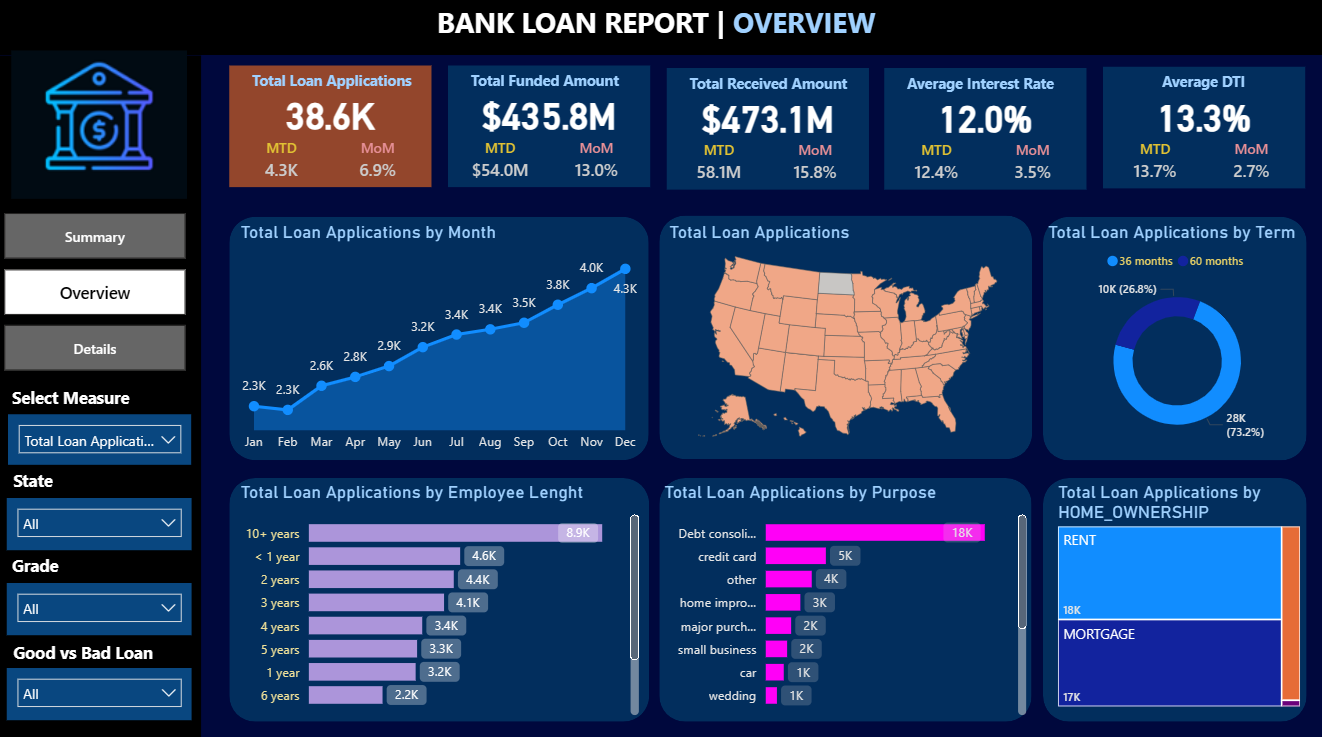

Layout of this report page (visuals, bound fields, positions):
{"tool":"powerbi","page":{"name":"Overview","canvas":[1280,720],"ordinal":1},"visuals":[{"type":"shape","box":[0,0,1280.3,55],"z":0},{"type":"shape","box":[223.1,64.9,195.2,117.4],"z":0,"group":"g1"},{"type":"shape","box":[434.3,64.9,195.2,117.4],"z":0,"group":"g2"},{"type":"shape","box":[1066.7,66.2,195.2,117.4],"z":0,"group":"g5"},{"type":"shape","box":[645.5,67.6,195.2,117.4],"z":0,"group":"g3"},{"type":"shape","box":[855.4,67.6,195.2,117.4],"z":0,"group":"g4"},{"type":"card","fields":{"Values":["financial_loan.Total Loan Applications"]},"box":[223.1,79.9,195.2,64.2],"z":1000,"group":"g1"},{"type":"card","fields":{"Values":["financial_loan.Total Funded Amount"]},"box":[434.3,79.9,195.2,64.2],"z":1000,"group":"g2"},{"type":"card","fields":{"Values":["financial_loan.Avg DTI Ratio"]},"box":[1066.7,81.2,195.2,64.2],"z":1000,"group":"g5"},{"type":"card","fields":{"Values":["financial_loan.Total Amount Received"]},"box":[645.5,82.6,195.2,64.2],"z":1000,"group":"g3"},{"type":"card","fields":{"Values":["financial_loan.AVG Int Rate"]},"box":[855.4,82.6,195.2,64.2],"z":1000,"group":"g4"},{"type":"shape","box":[223.2,211.1,405,235],"z":1000},{"type":"shape","box":[0,55.4,196.4,664.7],"z":2000},{"type":"textbox","box":[239.5,64.9,203.4,30],"z":2000,"group":"g1"},{"type":"textbox","box":[450.7,64.9,203.4,30],"z":2000,"group":"g2"},{"type":"textbox","box":[1118.1,66.3,148.6,39.3],"z":2000,"group":"g5"},{"type":"textbox","box":[661.9,67.6,203.4,30],"z":2000,"group":"g3"},{"type":"textbox","box":[871.8,67.6,203.4,30],"z":2000,"group":"g4"},{"type":"textbox","box":[418.2,0,443.8,55.1],"z":3000},{"type":"card","title":"MTD","fields":{"Values":["financial_loan.MTD Loan Applications"]},"box":[239.5,134.5,66.9,47.8],"z":3000,"group":"g1"},{"type":"card","title":"MTD","fields":{"Values":["financial_loan.MTD Funded Amount"]},"box":[450.7,134.5,66.9,47.8],"z":3000,"group":"g2"},{"type":"card","title":"MTD","fields":{"Values":["financial_loan.MTD Avg DTI"]},"box":[1083.1,135.8,66.9,47.8],"z":3000,"group":"g5"},{"type":"card","title":"MTD","fields":{"Values":["financial_loan.MTD Received Amount"]},"box":[661.9,137.2,66.9,47.8],"z":3000,"group":"g3"},{"type":"card","title":"MTD","fields":{"Values":["financial_loan.MTD Avg Int Rate"]},"box":[871.8,137.2,66.9,47.8],"z":3000,"group":"g4"},{"type":"group","id":"g1","title":"Group 1","box":[223.1,64.9,220.4,117.6],"z":4000},{"type":"card","title":"MoM","fields":{"Values":["financial_loan.MoM Loan Applications"]},"box":[332.3,134.5,66.9,47.8],"z":4000,"group":"g1"},{"type":"card","title":"MoM","fields":{"Values":["financial_loan.MoM Total Funded Amount"]},"box":[543.5,134.5,66.9,47.8],"z":4000,"group":"g2"},{"type":"card","title":"MoM","fields":{"Values":["financial_loan.MoM Avg DTI"]},"box":[1175.9,135.8,66.9,47.8],"z":4000,"group":"g5"},{"type":"card","title":"MoM","fields":{"Values":["financial_loan.MoM Total Received Amount"]},"box":[754.7,137.2,66.9,47.8],"z":4000,"group":"g3"},{"type":"card","title":"MoM","fields":{"Values":["financial_loan.MoM Avg Int Rate"]},"box":[964.6,137.2,66.9,47.8],"z":4000,"group":"g4"},{"type":"group","id":"g2","title":"Group 1","box":[434.3,64.9,220.4,116.3],"z":5000},{"type":"group","id":"g3","title":"Group 1","box":[645.5,67.6,219,117.6],"z":6000},{"type":"group","id":"g4","title":"Group 1","box":[855.4,67.6,220.4,117.6],"z":7000},{"type":"group","id":"g5","title":"Group 1","box":[1066.7,66.2,200.1,117.6],"z":8000},{"type":"slicer","fields":{"Values":["financial_loan.address_state"]},"box":[8.6,482,178.6,50],"z":9000},{"type":"slicer","fields":{"Values":["financial_loan.grade"]},"box":[8.6,564.9,178.6,50],"z":10000},{"type":"slicer","fields":{"Values":["financial_loan.Good vs Bad Loan"]},"box":[8.8,646.9,178.8,50.4],"z":11000},{"type":"textbox","box":[10,450.6,122.9,31.4],"z":12000},{"type":"textbox","box":[8.6,532,122.9,32.9],"z":13000},{"type":"textbox","box":[9.7,615,176.1,31.4],"z":14000},{"type":"areaChart","fields":{"Y":["financial_loan.Total Loan Applications"],"Category":["Date Table.Month"]},"box":[229.2,216,394.5,230.4],"z":15000},{"type":"slicer","fields":{"Values":["Select Measure.Select Measure"]},"box":[10,402,177.1,48.6],"z":16000},{"type":"textbox","box":[8.6,369.1,167.1,32.9],"z":17000},{"type":"shape","box":[638.2,209.9,360,235.3],"z":18000},{"type":"shape","box":[223.2,463.3,405.4,235.3],"z":19000},{"type":"barChart","title":"Total Loan Applications by Employee Lenght","fields":{"Y":["financial_loan.Total Loan Applications"],"Category":["financial_loan.emp_length"]},"box":[229.2,466.9,394.5,230.4],"z":20000},{"type":"shape","box":[1008.6,211.1,254.6,235.3],"z":21000},{"type":"donutChart","title":"Total Loan Applications by Term","fields":{"Y":["financial_loan.Total Loan Applications"],"Category":["financial_loan.term"]},"box":[1008.6,216,259.4,222],"z":22000},{"type":"shape","box":[638.2,463.3,359.5,235.3],"z":23000},{"type":"barChart","title":"Total Loan Applications by Purpose","fields":{"Y":["financial_loan.Total Loan Applications"],"Category":["financial_loan.purpose"]},"box":[638.2,466.9,359.5,230.4],"z":24000},{"type":"shape","box":[1008.6,463.3,254.6,235.3],"z":25000},{"type":"treemap","fields":{"Values":["financial_loan.Total Loan Applications"],"Group":["financial_loan.home_ownership"]},"box":[1018.2,466.9,243.7,222],"z":26000},{"type":"pageNavigator","box":[5.7,207.1,175.7,152.9],"z":27000},{"type":"image","box":[0,45.7,195.7,152.9],"z":28000},{"type":"shapeMap","fields":{"Category":["financial_loan.address_state"]},"box":[643,216,354.7,222],"z":29001}]}

Visuals, with their boxes in screenshot pixels (x1, y1, x2, y2), scaled from the page's 1280x720 canvas onto the 1322x737 screenshot:
shape: bbox=(0, 0, 1321, 56)
shape: bbox=(230, 66, 432, 187)
shape: bbox=(449, 66, 650, 187)
shape: bbox=(1102, 68, 1303, 188)
shape: bbox=(667, 69, 868, 189)
shape: bbox=(883, 69, 1085, 189)
card - financial_loan.Total Loan Applications: bbox=(230, 82, 432, 148)
card - financial_loan.Total Funded Amount: bbox=(449, 82, 650, 148)
card - financial_loan.Avg DTI Ratio: bbox=(1102, 83, 1303, 149)
card - financial_loan.Total Amount Received: bbox=(667, 85, 868, 150)
card - financial_loan.AVG Int Rate: bbox=(883, 85, 1085, 150)
shape: bbox=(231, 216, 649, 457)
shape: bbox=(0, 57, 203, 736)
textbox: bbox=(247, 66, 457, 97)
textbox: bbox=(465, 66, 676, 97)
textbox: bbox=(1155, 68, 1308, 108)
textbox: bbox=(684, 69, 894, 100)
textbox: bbox=(900, 69, 1110, 100)
textbox: bbox=(432, 0, 890, 56)
"MTD" card: bbox=(247, 138, 316, 187)
"MTD" card: bbox=(465, 138, 535, 187)
"MTD" card: bbox=(1119, 139, 1188, 188)
"MTD" card: bbox=(684, 140, 753, 189)
"MTD" card: bbox=(900, 140, 970, 189)
"Group 1" group: bbox=(230, 66, 458, 187)
"MoM" card: bbox=(343, 138, 412, 187)
"MoM" card: bbox=(561, 138, 630, 187)
"MoM" card: bbox=(1214, 139, 1284, 188)
"MoM" card: bbox=(779, 140, 849, 189)
"MoM" card: bbox=(996, 140, 1065, 189)
"Group 1" group: bbox=(449, 66, 676, 185)
"Group 1" group: bbox=(667, 69, 893, 190)
"Group 1" group: bbox=(883, 69, 1111, 190)
"Group 1" group: bbox=(1102, 68, 1308, 188)
slicer - financial_loan.address_state: bbox=(9, 493, 193, 545)
slicer - financial_loan.grade: bbox=(9, 578, 193, 629)
slicer - financial_loan.Good vs Bad Loan: bbox=(9, 662, 194, 714)
textbox: bbox=(10, 461, 137, 493)
textbox: bbox=(9, 545, 136, 578)
textbox: bbox=(10, 630, 192, 662)
areaChart - financial_loan.Total Loan Applications x Date Table.Month: bbox=(237, 221, 644, 457)
slicer - Select Measure.Select Measure: bbox=(10, 411, 193, 461)
textbox: bbox=(9, 378, 181, 411)
shape: bbox=(659, 215, 1031, 456)
shape: bbox=(231, 474, 649, 715)
"Total Loan Applications by Employee Lenght" barChart: bbox=(237, 478, 644, 714)
shape: bbox=(1042, 216, 1305, 457)
"Total Loan Applications by Term" donutChart: bbox=(1042, 221, 1310, 448)
shape: bbox=(659, 474, 1030, 715)
"Total Loan Applications by Purpose" barChart: bbox=(659, 478, 1030, 714)
shape: bbox=(1042, 474, 1305, 715)
treemap - financial_loan.Total Loan Applications x financial_loan.home_ownership: bbox=(1052, 478, 1303, 705)
pageNavigator: bbox=(6, 212, 187, 368)
image: bbox=(0, 47, 202, 203)
shapeMap - financial_loan.address_state: bbox=(664, 221, 1030, 448)
